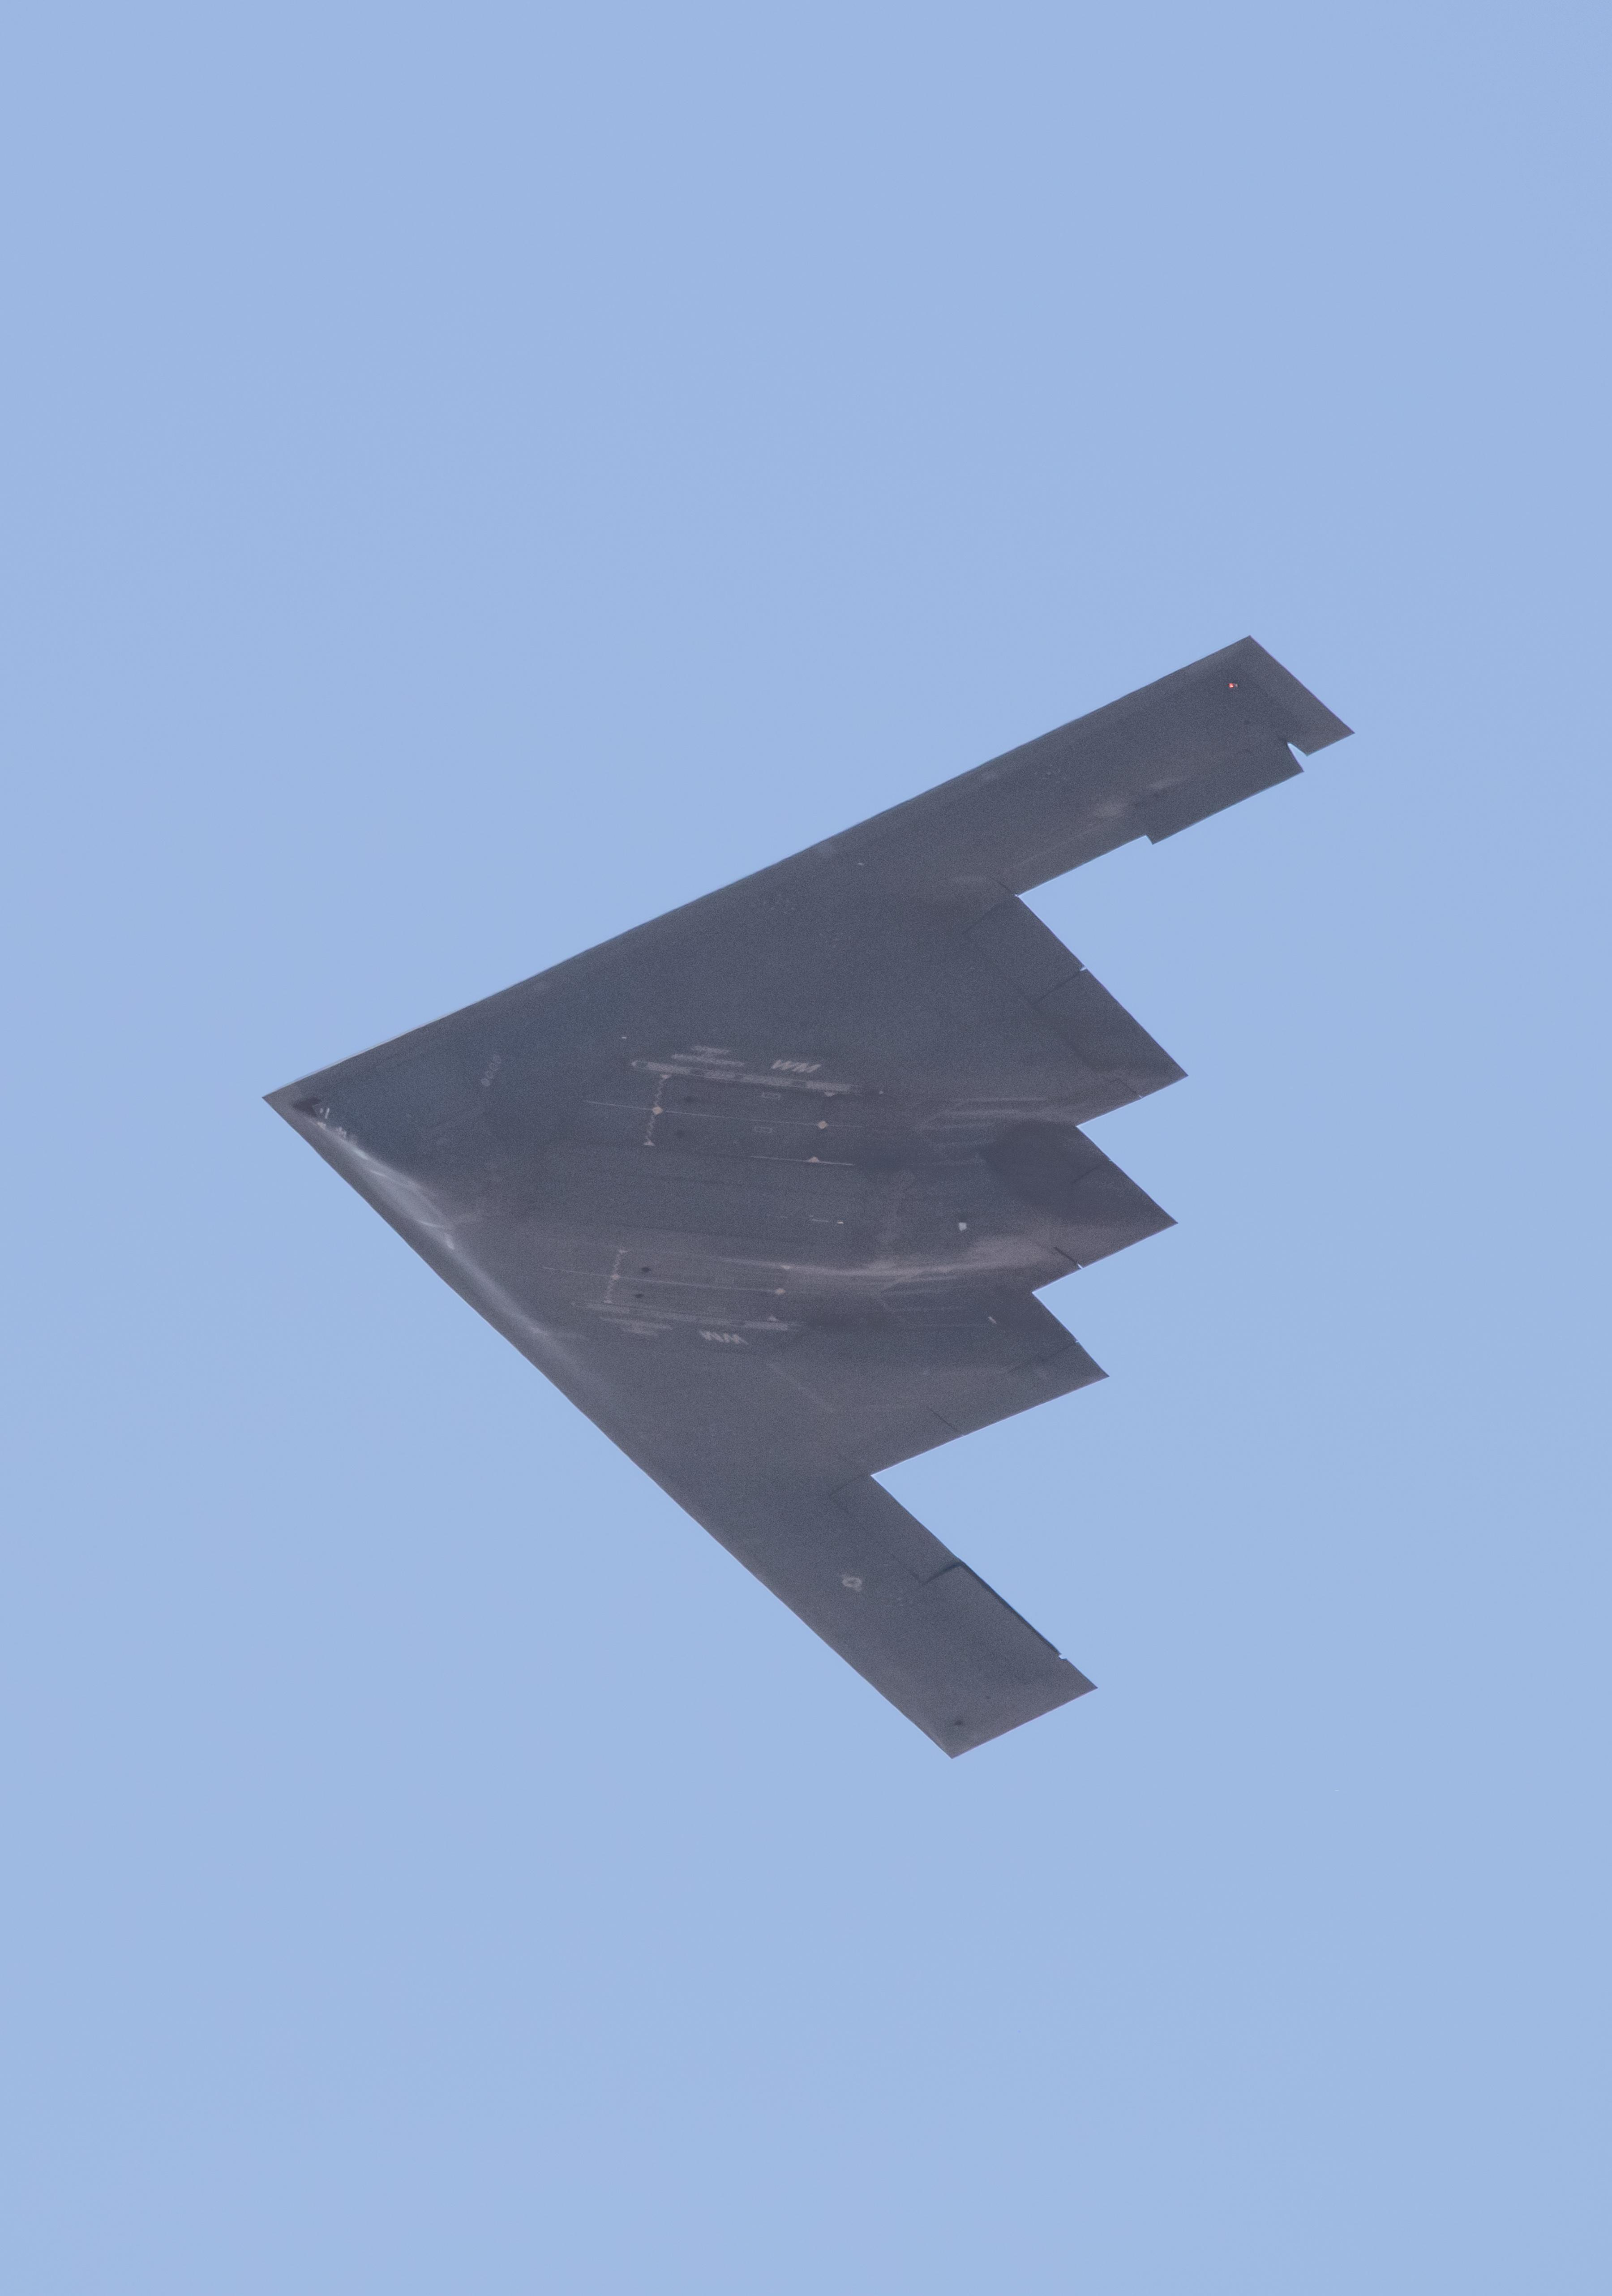B2: (262, 633, 1356, 1759)
